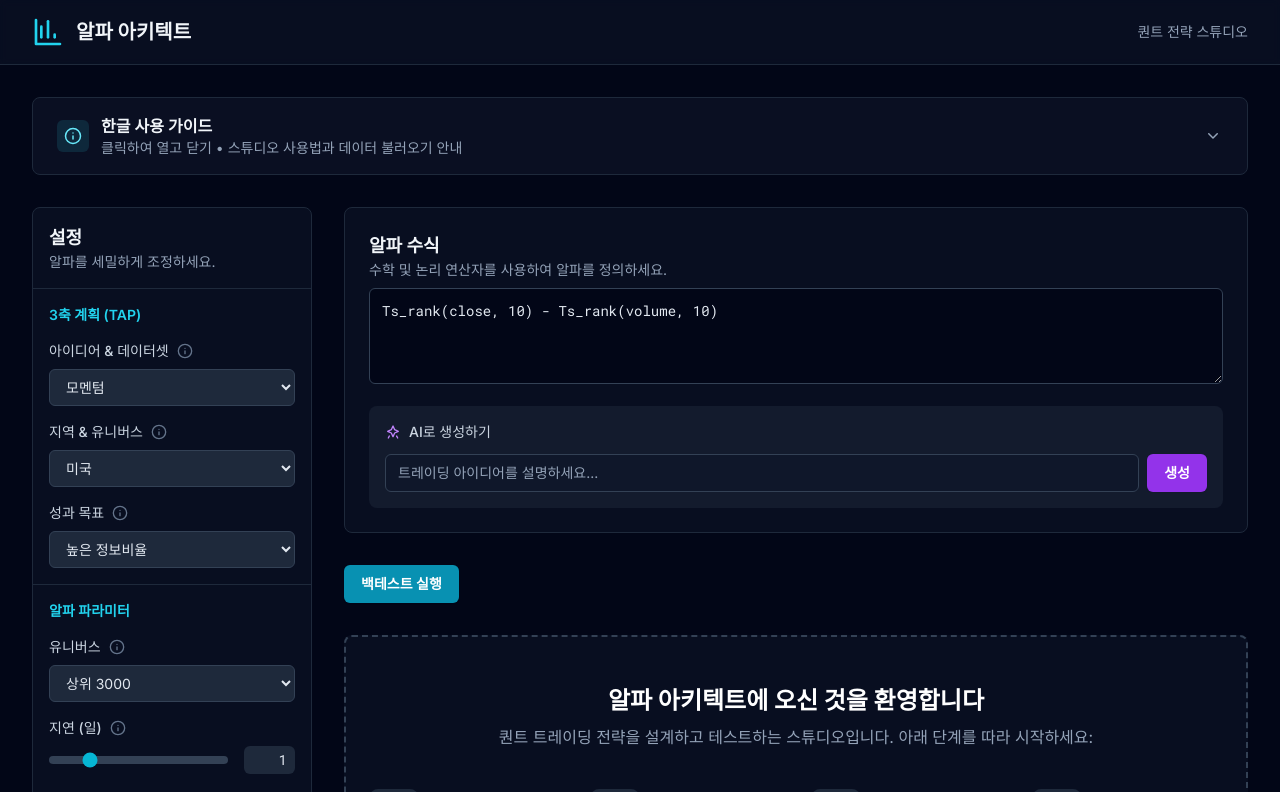
App › should display results after backtest
This screenshot has width=1280, height=792.
Click the button "백테스트 실행". click: [401, 584]
box: [344,565,459,603]
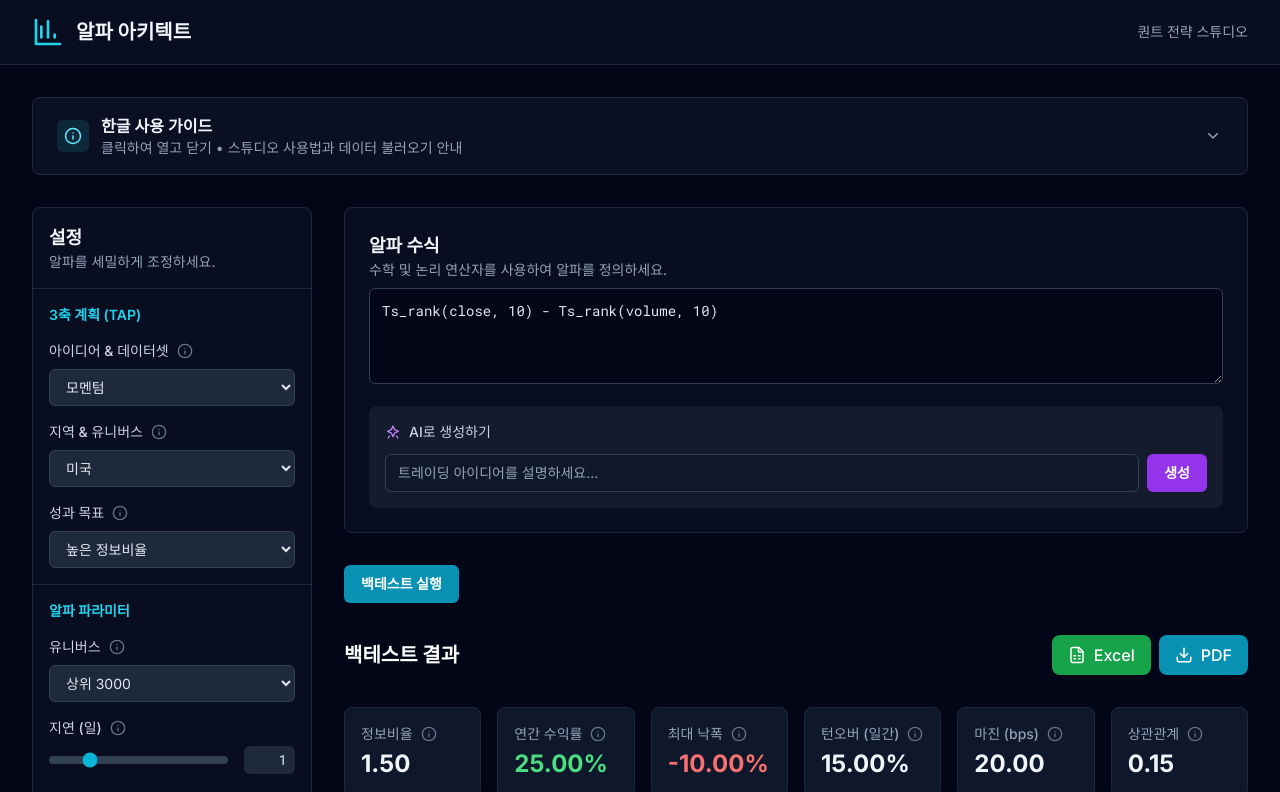
Expected: the heading "백테스트 결과" is shown, [344,641,459,669]
